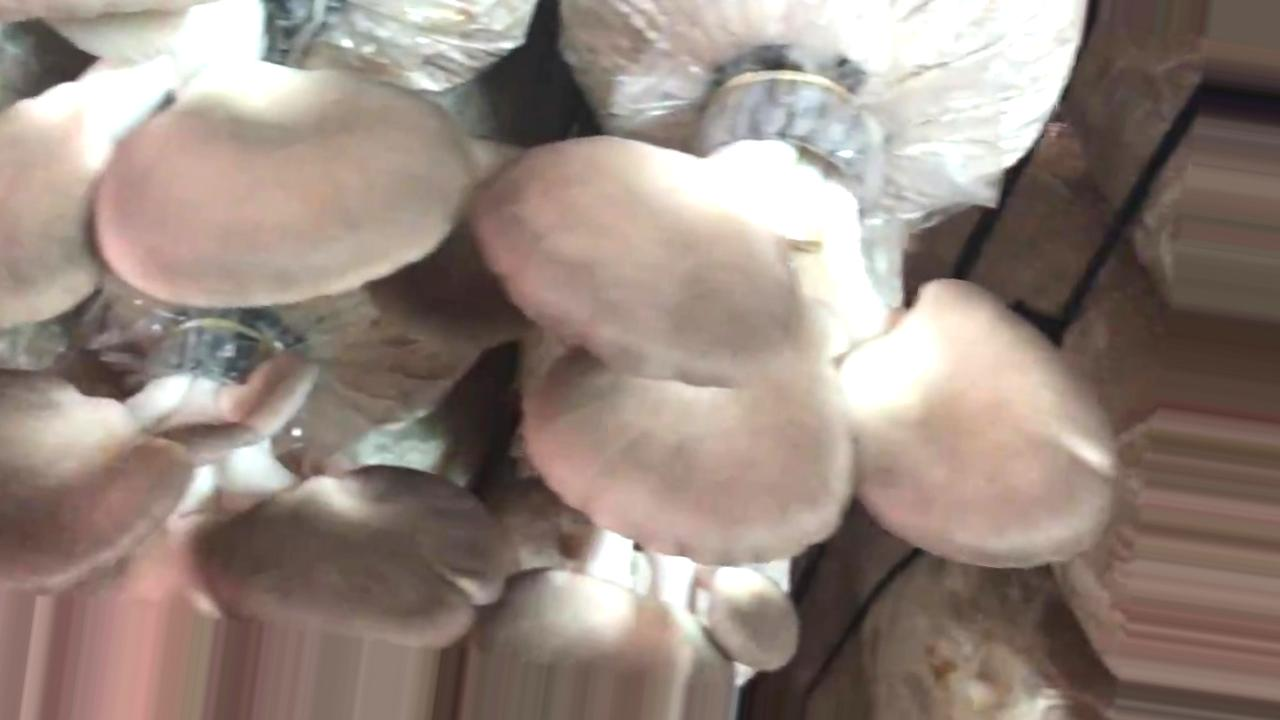nam: (477, 71, 1117, 564), (1, 303, 517, 645), (1, 2, 470, 324), (459, 482, 799, 720)
